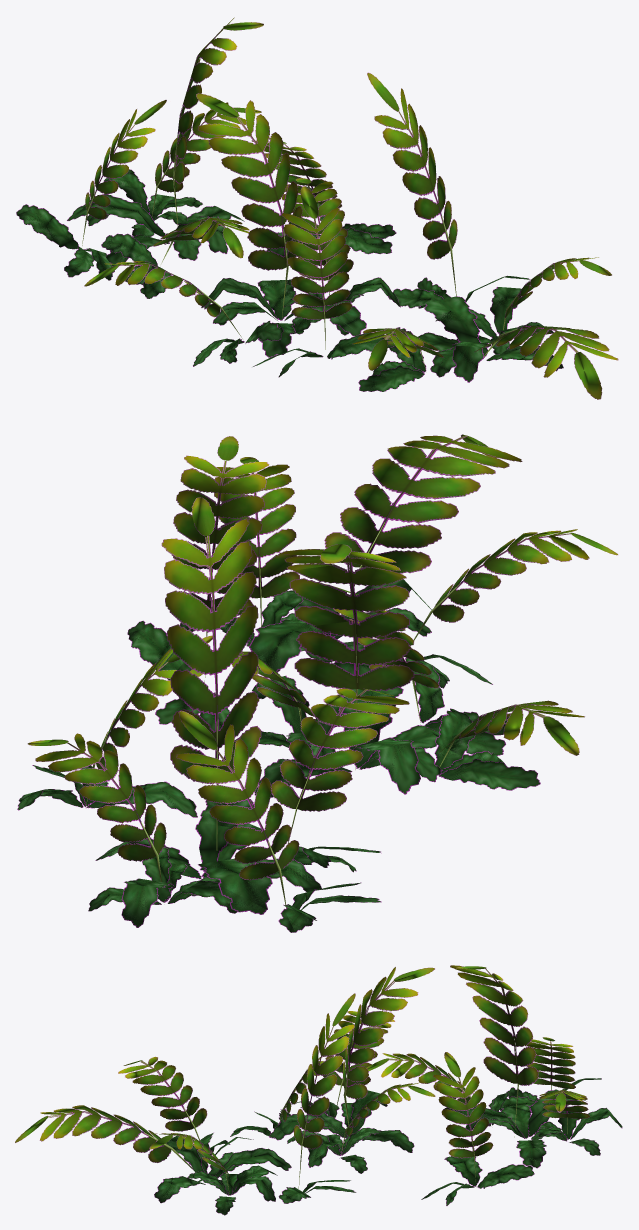
Rendered from n_SWFgogra04b.glb.
The picture shows the model from 3 angles, top to bottom: view 1: azimuth 30°, elevation 25°; view 2: azimuth 150°, elevation 25°; view 3: azimuth 270°, elevation 25°; orthographic projection. The views are drawn at different scales.
Visible parts, largest first — view 1: n_SWFgogra04b; view 2: n_SWFgogra04b; view 3: n_SWFgogra04b.
Part boxes in pixels (x1,y1,x2,y2): n_SWFgogra04b: (16, 17, 618, 399); n_SWFgogra04b: (17, 434, 618, 932); n_SWFgogra04b: (15, 965, 622, 1215).
Size of the model in its own units: 1.94 by 1.11 by 3.21.
4 materials, 4 textured.
